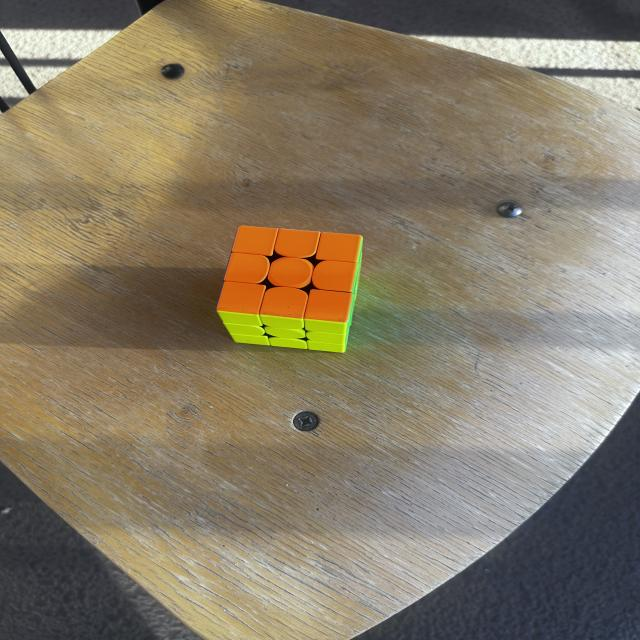sticker: (259, 286, 310, 329), (303, 288, 354, 330), (217, 281, 267, 320), (314, 231, 365, 264), (222, 252, 270, 286), (231, 225, 279, 258), (312, 260, 358, 294), (268, 256, 314, 289), (273, 228, 320, 259), (229, 333, 270, 346), (307, 338, 344, 351), (269, 337, 309, 349)
